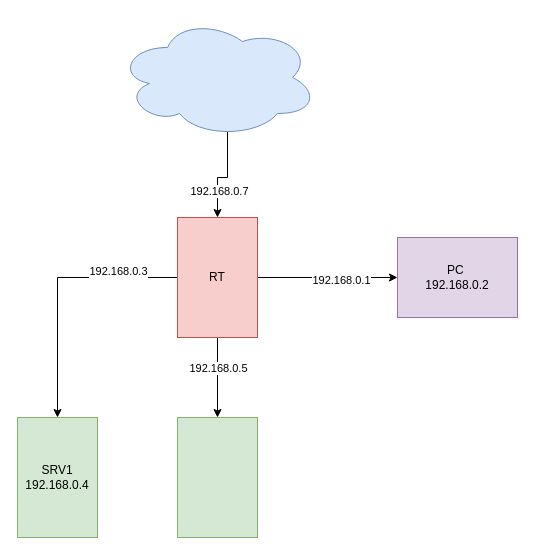
Some shapes in this 535 by 555 pixel diagram are drawn without their labels. The centre of each missing label's shape, as x and y in pixels:
NET: the point at 217,77
SRV2 192.168.0.6: the point at 217,477
